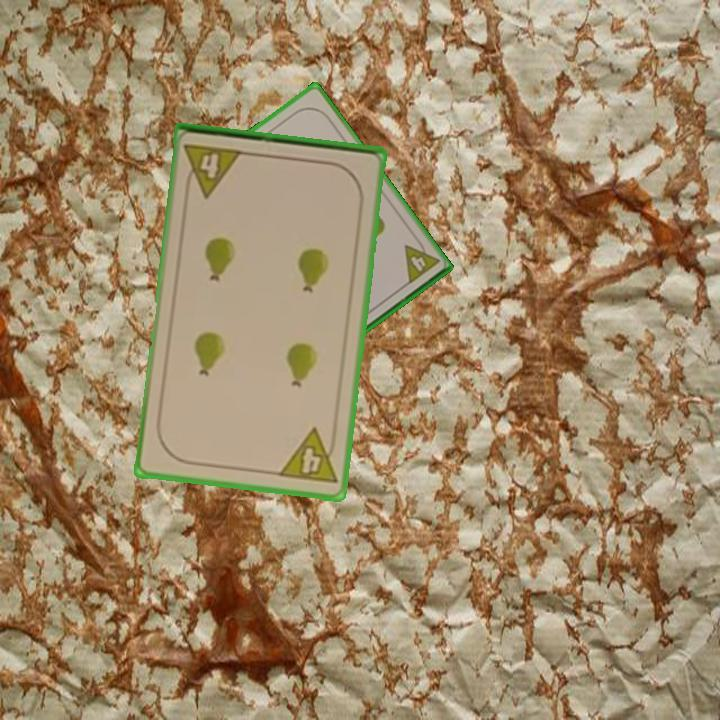4p: (275, 425, 340, 488), (180, 140, 246, 200), (400, 234, 442, 287)
